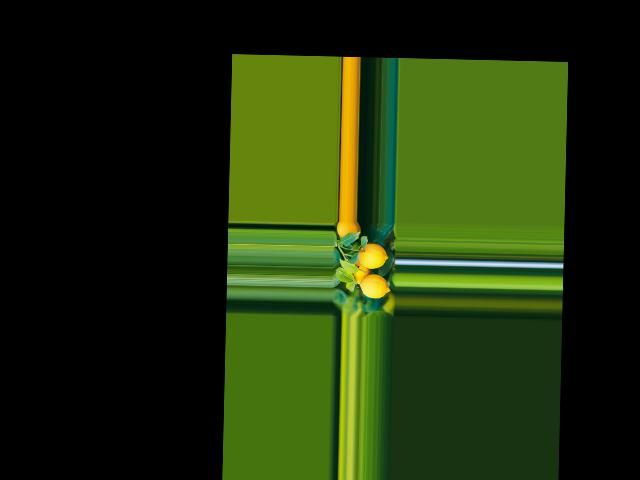lemon: (358, 275, 389, 298)
